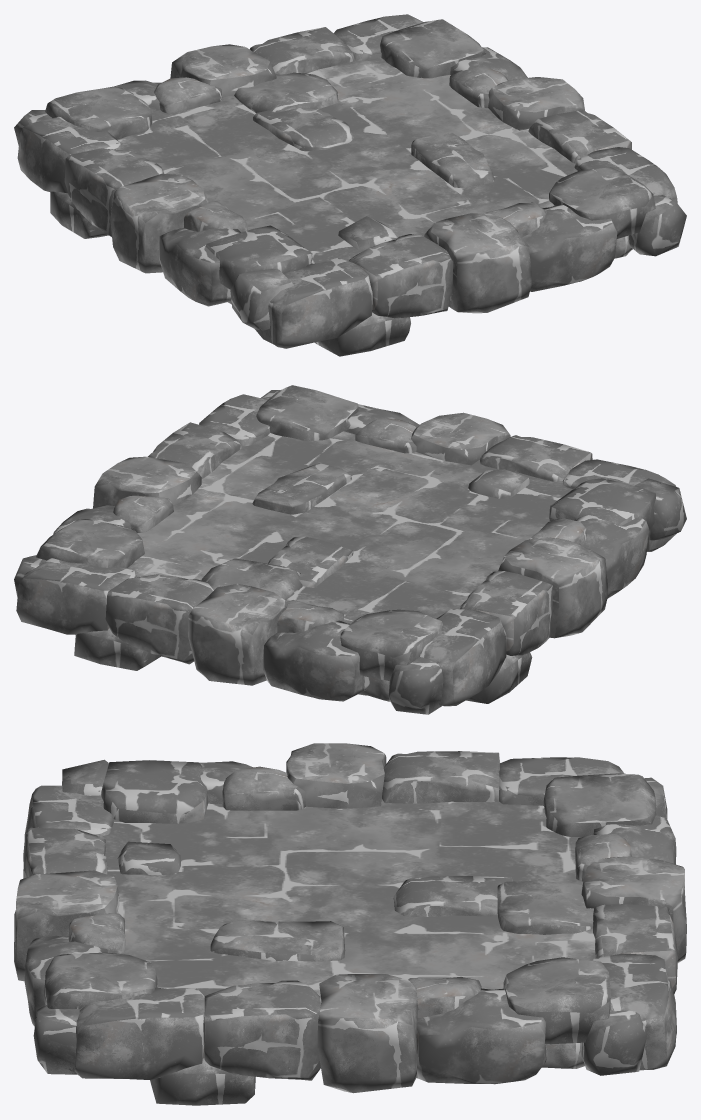
File: Platform.fbx
The picture shows the model from 3 angles, top to bottom: view 1: azimuth 30°, elevation 25°; view 2: azimuth 150°, elevation 25°; view 3: azimuth 270°, elevation 25°; orthographic projection. The views are drawn at different scales.
Visible parts, largest first — view 1: rock_1.003, Plane; view 2: rock_1.003, Plane; view 3: rock_1.003, Plane.
Boxes of the visible parts, x1,y1,x2,y2 form: rock_1.003: (14, 14, 686, 356); Plane: (117, 57, 577, 263); rock_1.003: (14, 385, 686, 714); Plane: (127, 431, 572, 623); rock_1.003: (14, 743, 686, 1105); Plane: (100, 799, 595, 995).
Bounding box in the file's own units: 4.29 × 0.8089 × 4.46.
